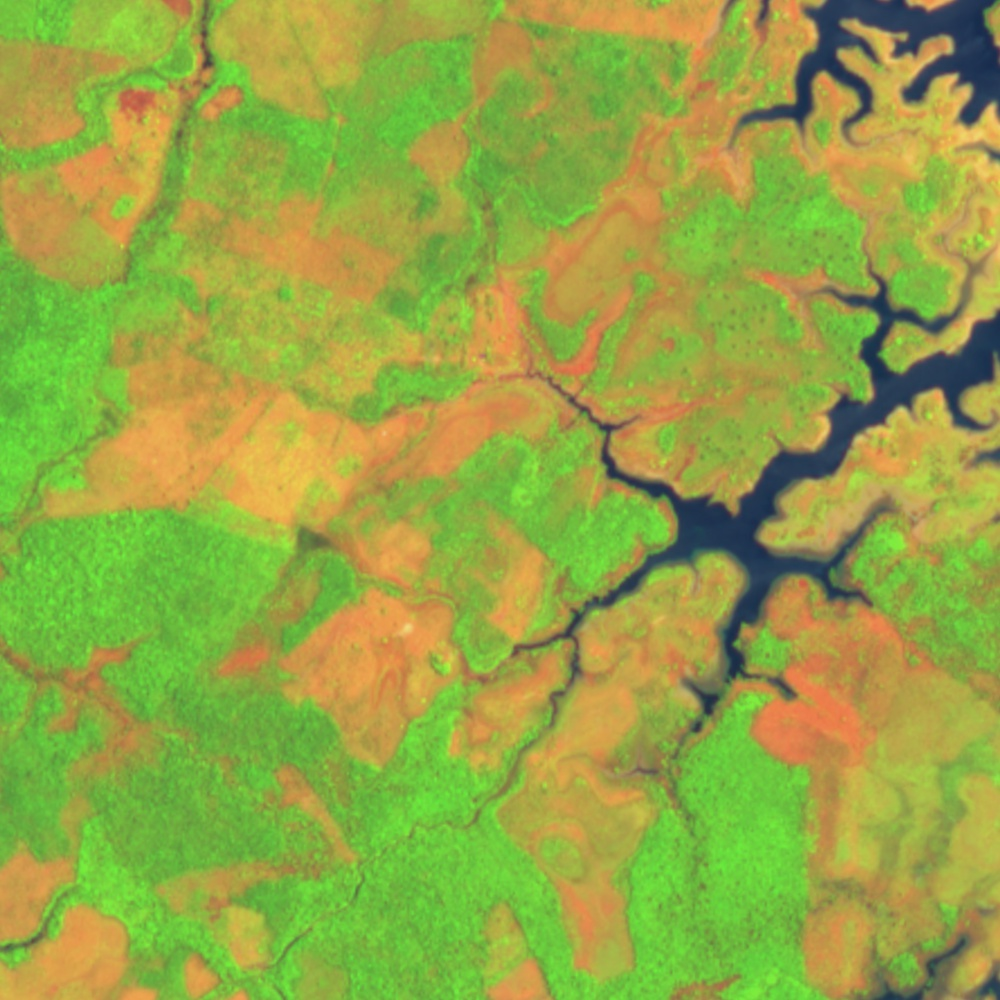legal: (496, 273, 1000, 774), (27, 319, 461, 769), (747, 577, 1000, 1000), (173, 102, 476, 337), (1, 1, 247, 288), (447, 644, 643, 966), (209, 1, 708, 121), (690, 1, 1000, 190), (505, 86, 716, 336), (1, 615, 245, 791), (157, 844, 319, 1000), (1, 845, 163, 1000), (266, 761, 366, 871), (474, 894, 567, 1000), (661, 976, 746, 1000)
